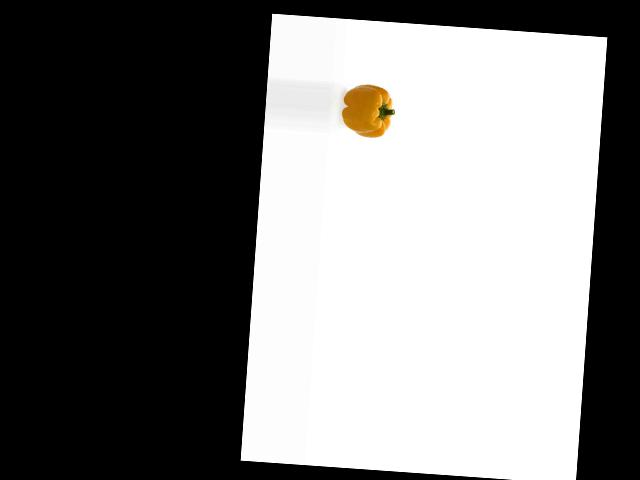bell_pepper: (339, 83, 398, 142)
